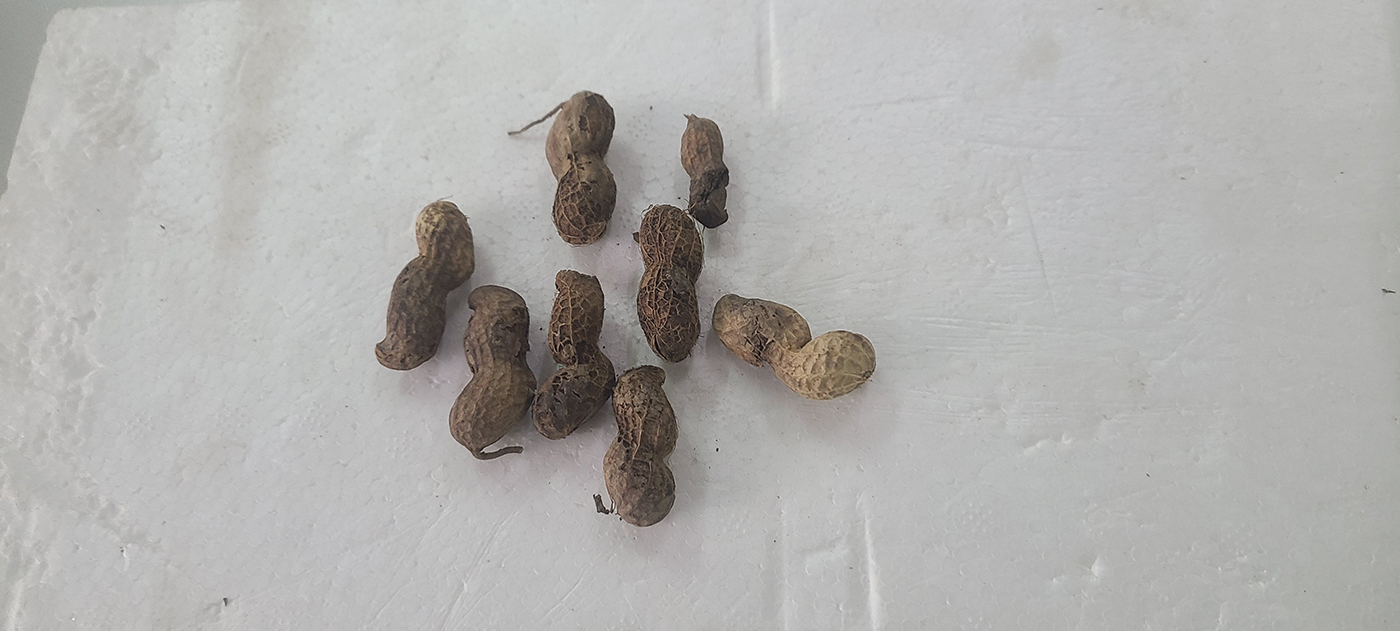l: (712, 293, 877, 401), (375, 199, 474, 370), (449, 283, 536, 453), (532, 268, 616, 439), (602, 365, 679, 525), (545, 90, 616, 245), (636, 206, 704, 362), (680, 116, 730, 228)
